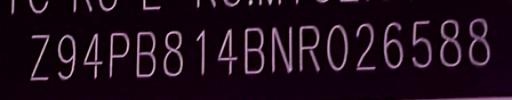letter: (294, 23, 322, 75), (408, 17, 436, 68), (437, 17, 463, 68), (323, 23, 349, 74), (215, 26, 241, 77), (268, 25, 294, 75), (107, 28, 131, 80), (80, 29, 104, 81), (27, 30, 51, 82), (55, 29, 77, 85), (468, 15, 492, 66), (380, 19, 404, 70), (242, 25, 266, 76), (162, 27, 186, 78), (353, 21, 377, 71), (134, 30, 158, 80), (193, 26, 209, 77)
